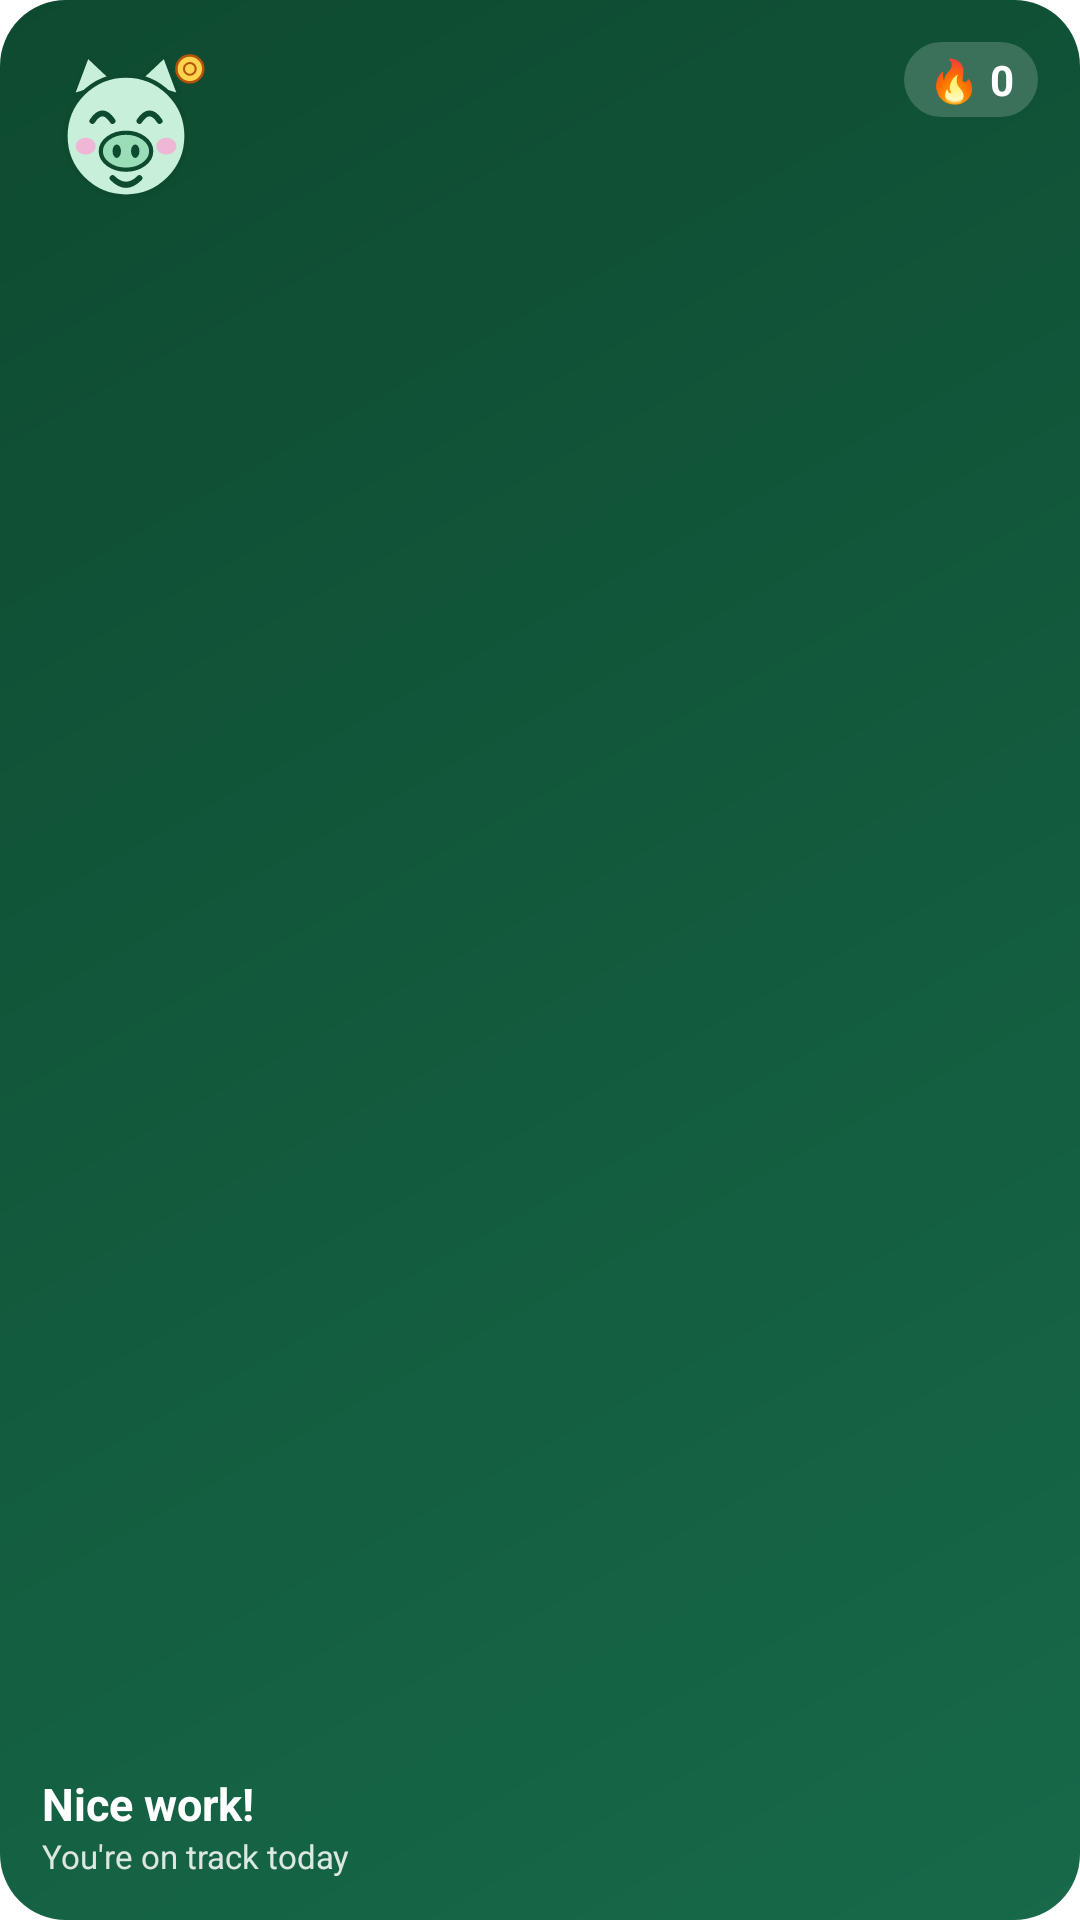

Named icons in this screenshot (1080px x 1920px) and their bounding boxes, (x1, y1, x2, y2):
piggy happy: (67, 54, 205, 195)
